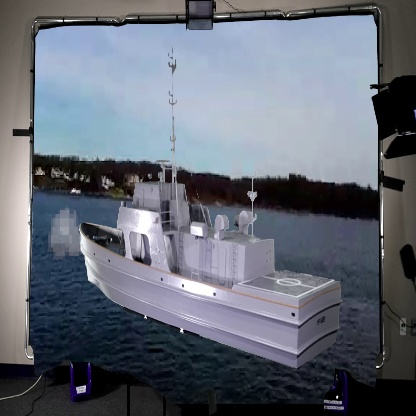YP689: (78, 48, 341, 369)
